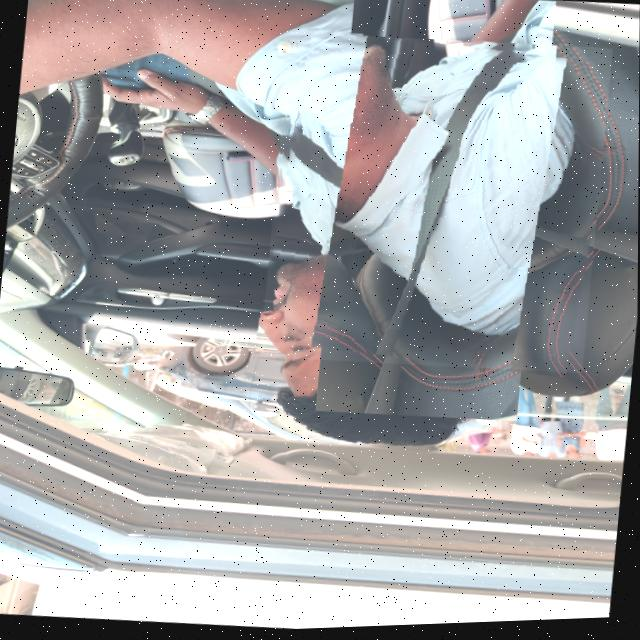seatbelt: (259, 24, 612, 386)
